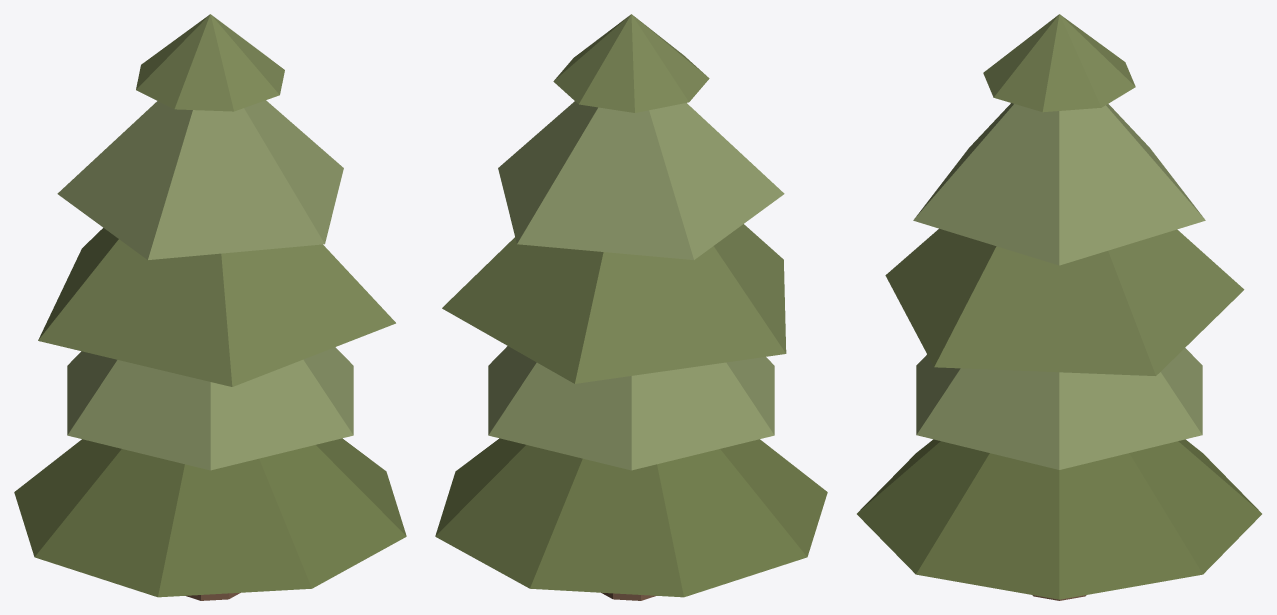
Rendered from fir_tree_22.fbx.
The picture shows the model from 3 angles, left to right: view 1: azimuth 30°, elevation 25°; view 2: azimuth 150°, elevation 25°; view 3: azimuth 270°, elevation 25°; orthographic projection.
Visible parts, largest first — view 1: fir_tree_22; view 2: fir_tree_22; view 3: fir_tree_22.
Boxes of the visible parts, x1,y1,x2,y2 form: fir_tree_22: (14,14,406,600); fir_tree_22: (435,14,827,600); fir_tree_22: (857,14,1261,600).
Size of the model in its own units: 264 by 410 by 264.
